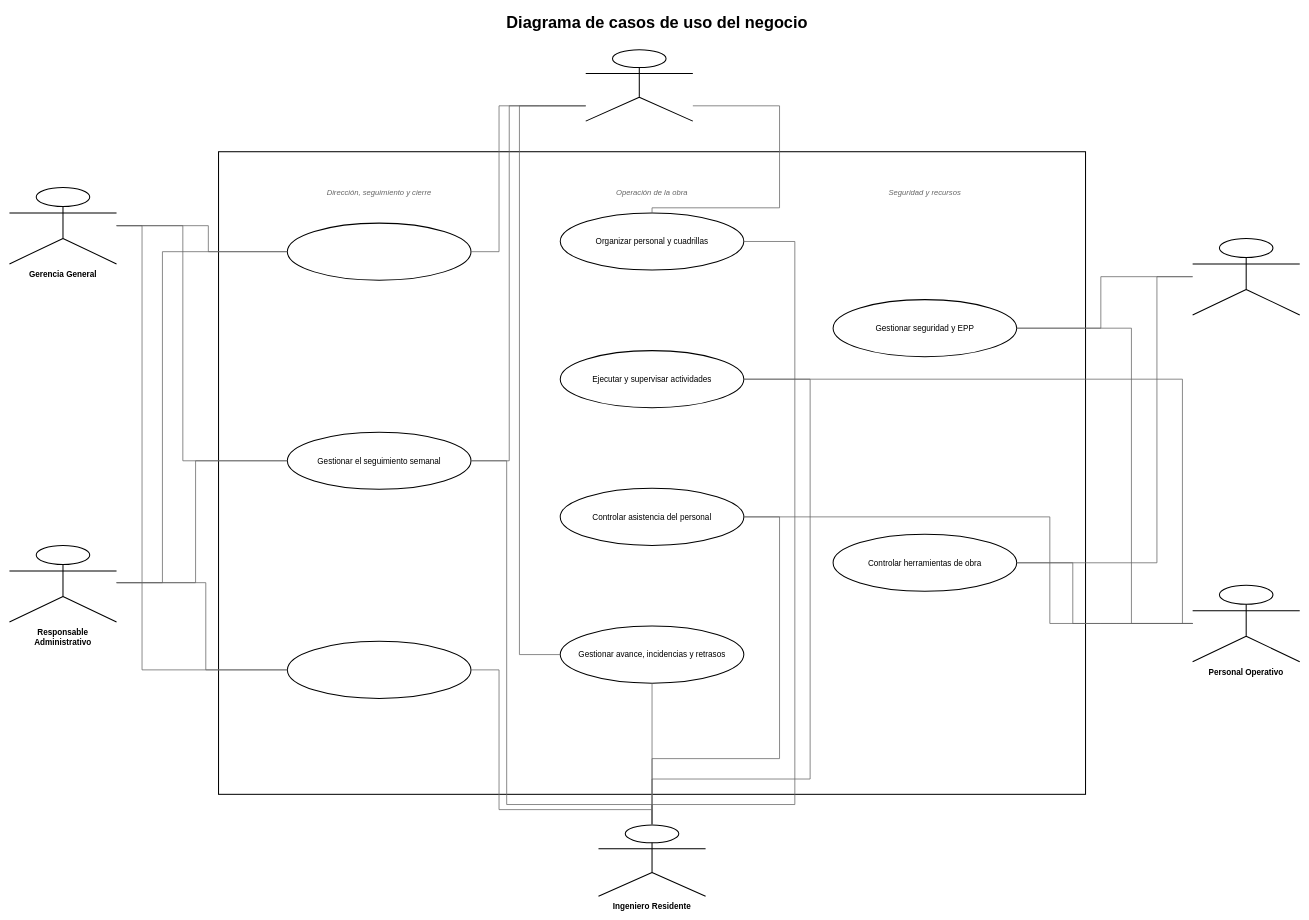
This 1309x920 diagram has some shape labels left out. Here are the shapes that lost their labels. From the top down, the box of each, then its label:
(585, 49, 693, 121): Gerencia de Operaciones
(287, 222, 471, 280): Autorizar y planificar la obra
(1192, 238, 1300, 315): Higiene y Seguridad
(218, 151, 1086, 795): Constructora Eder Torres - Procesos del negocio
(287, 641, 471, 699): Cerrar la obra y archivar el expediente
